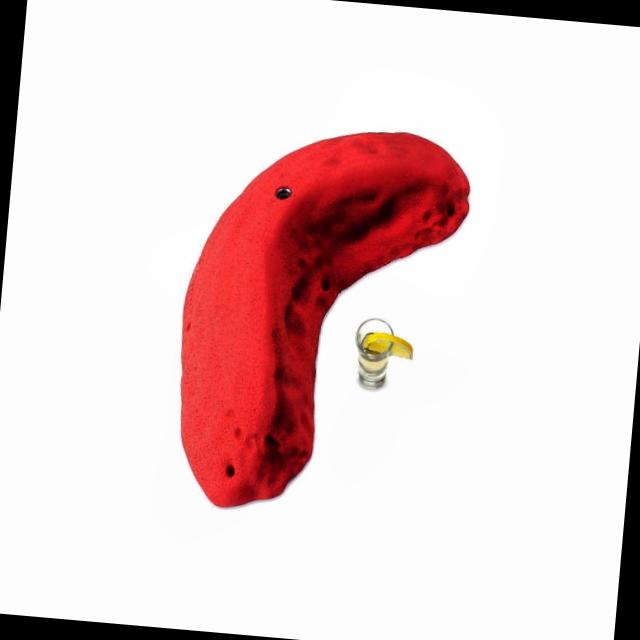Hold: (167, 120, 474, 522)
